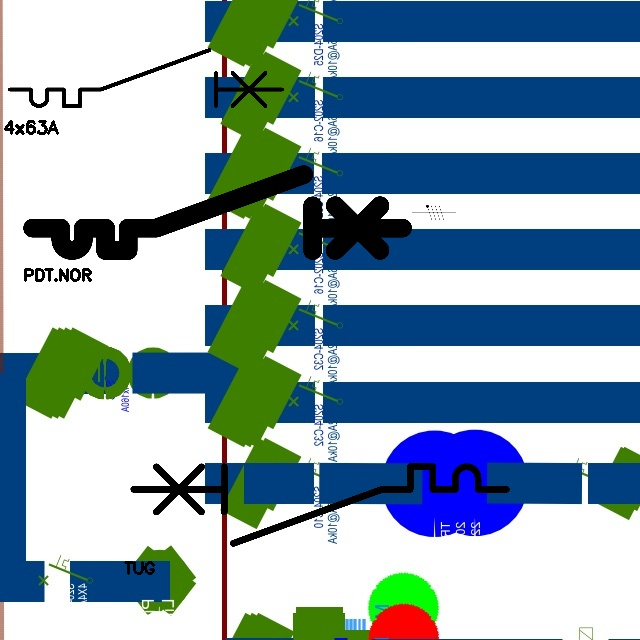interruptor_termomagnetico: (124, 457, 516, 553), (23, 165, 412, 260), (3, 43, 289, 113)
